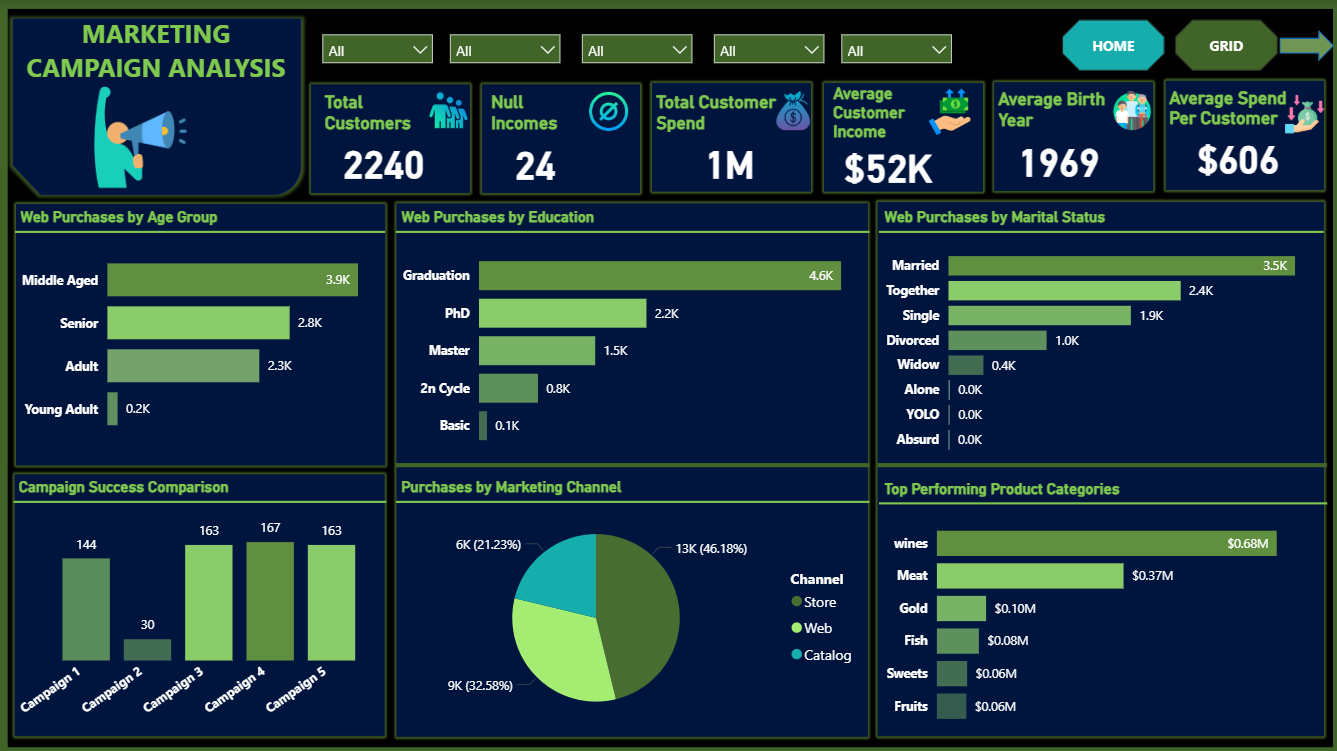

The dashboard page shown, as its layout file describes it:
{"tool":"powerbi","page":{"name":"HOME","canvas":[1280,720],"ordinal":0},"visuals":[{"type":"card","title":"Total Customers","fields":{"Values":["Measure Table.Total Customers"]},"box":[305.4,87.5,122.5,93.8],"z":0},{"type":"card","title":"Average Birth Year","fields":{"Values":["Measure Table.Average Birt_Year"]},"box":[948,84.3,125.7,97],"z":1000},{"type":"card","title":"Average Customer Income","fields":{"Values":["Measure Table.Average Income"]},"box":[790.5,79.5,114.5,100.2],"z":2000},{"type":"card","title":"Null Incomes","fields":{"Values":["Measure Table.null Incomes"]},"box":[464.5,87.5,93.8,95.4],"z":3000},{"type":"card","title":"Average Spend Per Customer","fields":{"Values":["Measure Table.Average Spend"]},"box":[1111.8,82.7,141.6,93.8],"z":4000},{"type":"card","title":"Total Customer Spend","fields":{"Values":["Measure Table.Total Spend"]},"box":[621.9,87.5,149.5,93.8],"z":5000},{"type":"textbox","box":[11.1,9.5,275.2,95.4],"z":6000},{"type":"image","box":[404,71.6,48,67],"z":7000},{"type":"image","box":[556.7,73.2,47.7,66.8],"z":8000},{"type":"image","box":[733.3,71.6,47.7,68.4],"z":9000},{"type":"image","box":[879.6,70,54.1,73.2],"z":10000},{"type":"barChart","title":"Web Purchases by Age Group","fields":{"Category":["marketing_data.Age Group"],"Y":["Measure Table.Web Purchases"]},"box":[14.3,198.8,353.1,230],"z":11000},{"type":"barChart","fields":{"Y":["Measure Table.Web Purchases"],"Category":["marketing_data.Education"]},"box":[378.6,198.8,451.7,241.8],"z":12000},{"type":"shape","box":[378.6,412,451.7,63.6],"z":13000},{"type":"barChart","fields":{"Category":["marketing_data.Marital Status"],"Y":["Measure Table.Web Purchases"]},"box":[839.8,198.8,424.7,245],"z":14000},{"type":"clusteredColumnChart","title":"Campaign Success Comparison ","fields":{"Category":["campaigns.Campaign Name"],"Y":["campaigns.Accepted Campaign Count"]},"box":[12.7,456.5,356.3,245],"z":15000},{"type":"pieChart","title":"Purchases by Marketing Channel","fields":{"Category":["Channels.Channel"],"Y":["Channels.Channel Purchases"]},"box":[378,456.5,451.7,243.4],"z":16000},{"type":"shape","box":[838.3,412,429.5,63.6],"z":17000},{"type":"barChart","title":"Top Performing Product Categories","fields":{"Category":["Products.Product Name"],"Y":["Products.Product Spend"]},"box":[839.8,458.1,427.9,246.5],"z":18000},{"type":"shape","box":[1221.6,28.6,52.5,30.2],"z":19000},{"type":"pageNavigator","box":[1014.8,19.1,206.8,49.3],"z":20000},{"type":"slicer","fields":{"Values":["marketing_data.Age Group"]},"box":[297.9,22.9,125.7,60.4],"z":21000},{"type":"slicer","fields":{"Values":["marketing_data.Education"]},"box":[420.4,22.9,125.7,60.4],"z":22000},{"type":"slicer","fields":{"Values":["marketing_data.Marital Status"]},"box":[546,22.9,125.7,60.4],"z":23000},{"type":"slicer","fields":{"Values":["Channels.Channel"]},"box":[671.7,22.9,125.7,60.4],"z":24000},{"type":"slicer","fields":{"Values":["marketing_data.Campaign Accepted"]},"box":[794.2,22.9,125.7,60.4],"z":25000},{"type":"image","box":[1221.6,73.2,47.7,71.6],"z":26000},{"type":"image","box":[1057.8,71.6,47.7,68.4],"z":27000},{"type":"image","box":[65.2,68.4,136.8,124.1],"z":28000}]}

Visuals, with their boxes in screenshot pixels (x1, y1, x2, y2), scaled from the page's 1280x720 canvas onto the 1337x751 screenshot:
"Total Customers" card: {"x1": 319, "y1": 91, "x2": 447, "y2": 189}
"Average Birth Year" card: {"x1": 990, "y1": 88, "x2": 1122, "y2": 189}
"Average Customer Income" card: {"x1": 826, "y1": 83, "x2": 945, "y2": 187}
"Null Incomes" card: {"x1": 485, "y1": 91, "x2": 583, "y2": 191}
"Average Spend Per Customer" card: {"x1": 1161, "y1": 86, "x2": 1309, "y2": 184}
"Total Customer Spend" card: {"x1": 650, "y1": 91, "x2": 806, "y2": 189}
textbox: {"x1": 12, "y1": 10, "x2": 299, "y2": 109}
image: {"x1": 422, "y1": 75, "x2": 472, "y2": 145}
image: {"x1": 581, "y1": 76, "x2": 631, "y2": 146}
image: {"x1": 766, "y1": 75, "x2": 816, "y2": 146}
image: {"x1": 919, "y1": 73, "x2": 975, "y2": 149}
"Web Purchases by Age Group" barChart: {"x1": 15, "y1": 207, "x2": 384, "y2": 447}
barChart - Measure Table.Web Purchases x marketing_data.Education: {"x1": 395, "y1": 207, "x2": 867, "y2": 460}
shape: {"x1": 395, "y1": 430, "x2": 867, "y2": 496}
barChart - marketing_data.Marital Status x Measure Table.Web Purchases: {"x1": 877, "y1": 207, "x2": 1321, "y2": 463}
"Campaign Success Comparison " clusteredColumnChart: {"x1": 13, "y1": 476, "x2": 385, "y2": 732}
"Purchases by Marketing Channel" pieChart: {"x1": 395, "y1": 476, "x2": 867, "y2": 730}
shape: {"x1": 876, "y1": 430, "x2": 1324, "y2": 496}
"Top Performing Product Categories" barChart: {"x1": 877, "y1": 478, "x2": 1324, "y2": 735}
shape: {"x1": 1276, "y1": 30, "x2": 1331, "y2": 61}
pageNavigator: {"x1": 1060, "y1": 20, "x2": 1276, "y2": 71}
slicer - marketing_data.Age Group: {"x1": 311, "y1": 24, "x2": 442, "y2": 87}
slicer - marketing_data.Education: {"x1": 439, "y1": 24, "x2": 570, "y2": 87}
slicer - marketing_data.Marital Status: {"x1": 570, "y1": 24, "x2": 702, "y2": 87}
slicer - Channels.Channel: {"x1": 702, "y1": 24, "x2": 833, "y2": 87}
slicer - marketing_data.Campaign Accepted: {"x1": 830, "y1": 24, "x2": 961, "y2": 87}
image: {"x1": 1276, "y1": 76, "x2": 1326, "y2": 151}
image: {"x1": 1105, "y1": 75, "x2": 1155, "y2": 146}
image: {"x1": 68, "y1": 71, "x2": 211, "y2": 201}
